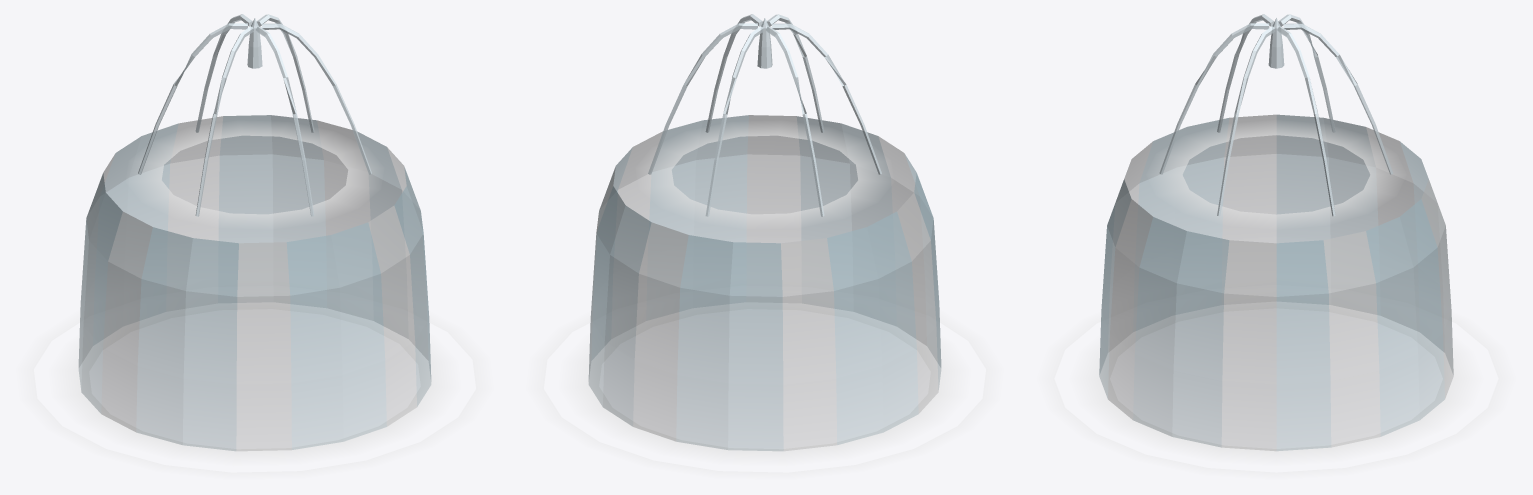
The model's file is fountain_water_low.glb.
The picture shows the model from 3 angles, left to right: view 1: azimuth 30°, elevation 25°; view 2: azimuth 150°, elevation 25°; view 3: azimuth 270°, elevation 25°; orthographic projection.
Parts seen in each view (by area): view 1: fall, ripple, ripple_top, jet; view 2: fall, ripple, ripple_top, jet; view 3: fall, ripple, ripple_top, jet.
Part boxes in pixels (bbox=[...]): fall: bbox=[78, 115, 431, 450]; ripple: bbox=[22, 302, 487, 476]; ripple_top: bbox=[133, 124, 376, 226]; jet: bbox=[138, 14, 371, 216]; fall: bbox=[588, 115, 941, 450]; ripple: bbox=[532, 302, 997, 476]; ripple_top: bbox=[643, 124, 886, 226]; jet: bbox=[648, 14, 881, 216]; fall: bbox=[1099, 114, 1453, 450]; ripple: bbox=[1043, 301, 1509, 476]; ripple_top: bbox=[1154, 123, 1398, 226]; jet: bbox=[1159, 14, 1393, 216].
Size of the model in its own units: 3.4 by 2.8 by 3.4.
